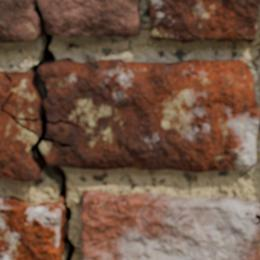brick: (82, 191, 259, 259), (150, 0, 259, 42), (0, 197, 64, 259)
broken_brick: (40, 58, 259, 173), (0, 0, 141, 44), (0, 112, 41, 182), (0, 71, 36, 117)
crack: (0, 1, 82, 259), (253, 205, 259, 225)
